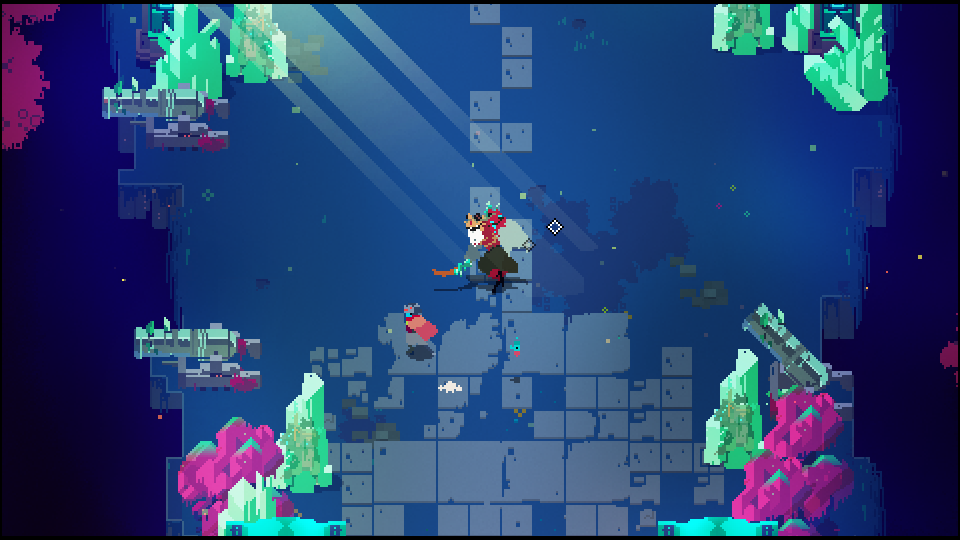hanged_man: (444, 196, 530, 300)
player: (398, 303, 438, 357)
